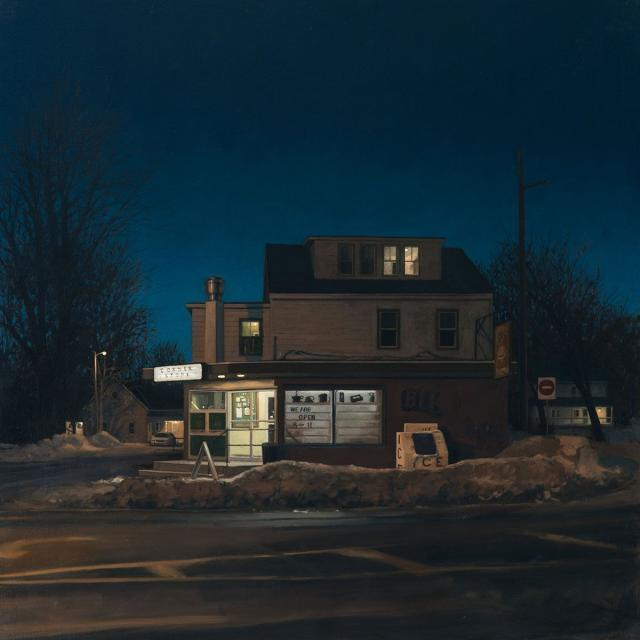off: (110, 156, 406, 254)
